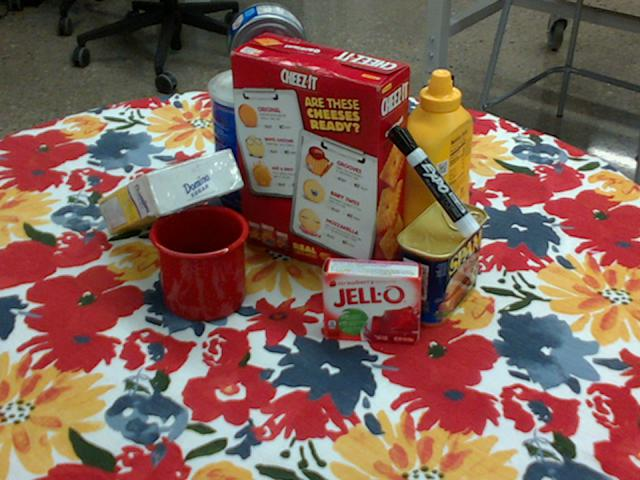cracker_box: (229, 34, 409, 284)
gelatin_box: (322, 257, 423, 344)
large_marker: (389, 124, 481, 237)
master_chef_can: (209, 66, 304, 219)
mug: (149, 204, 250, 321)
mustard_bottle: (400, 70, 473, 261)
potted_meat_can: (397, 199, 489, 327)
sugar_box: (96, 150, 243, 235)
tomato_soup_can: (359, 109, 422, 216)
tuna_fish_can: (225, 3, 307, 89)
